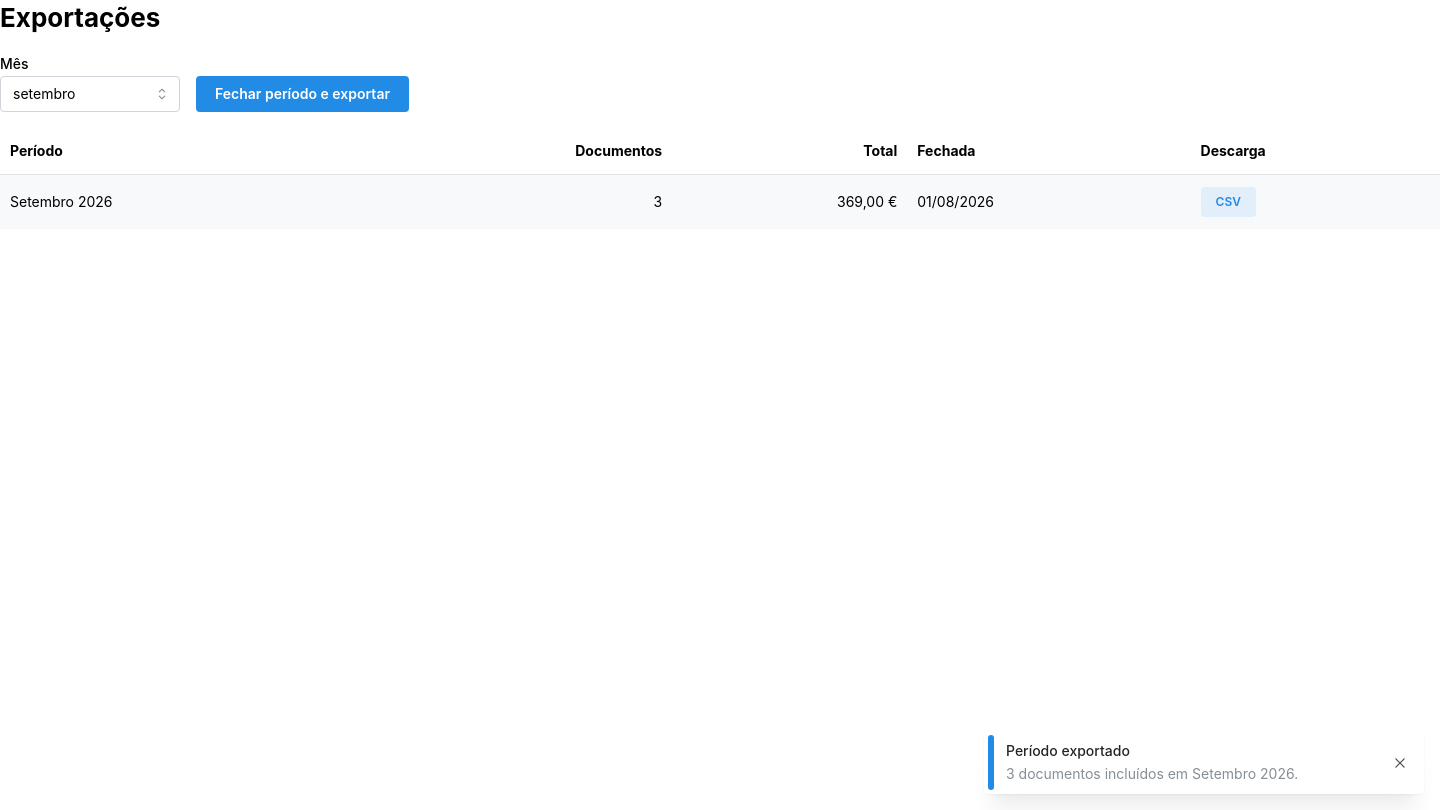
Test case: ExportsPage › um mês já fechado avisa e não duplica a linha
This screenshot has width=1440, height=810.
Step 1. Click the button "Fechar período e exportar" → [302, 94], box [196,76,409,112]
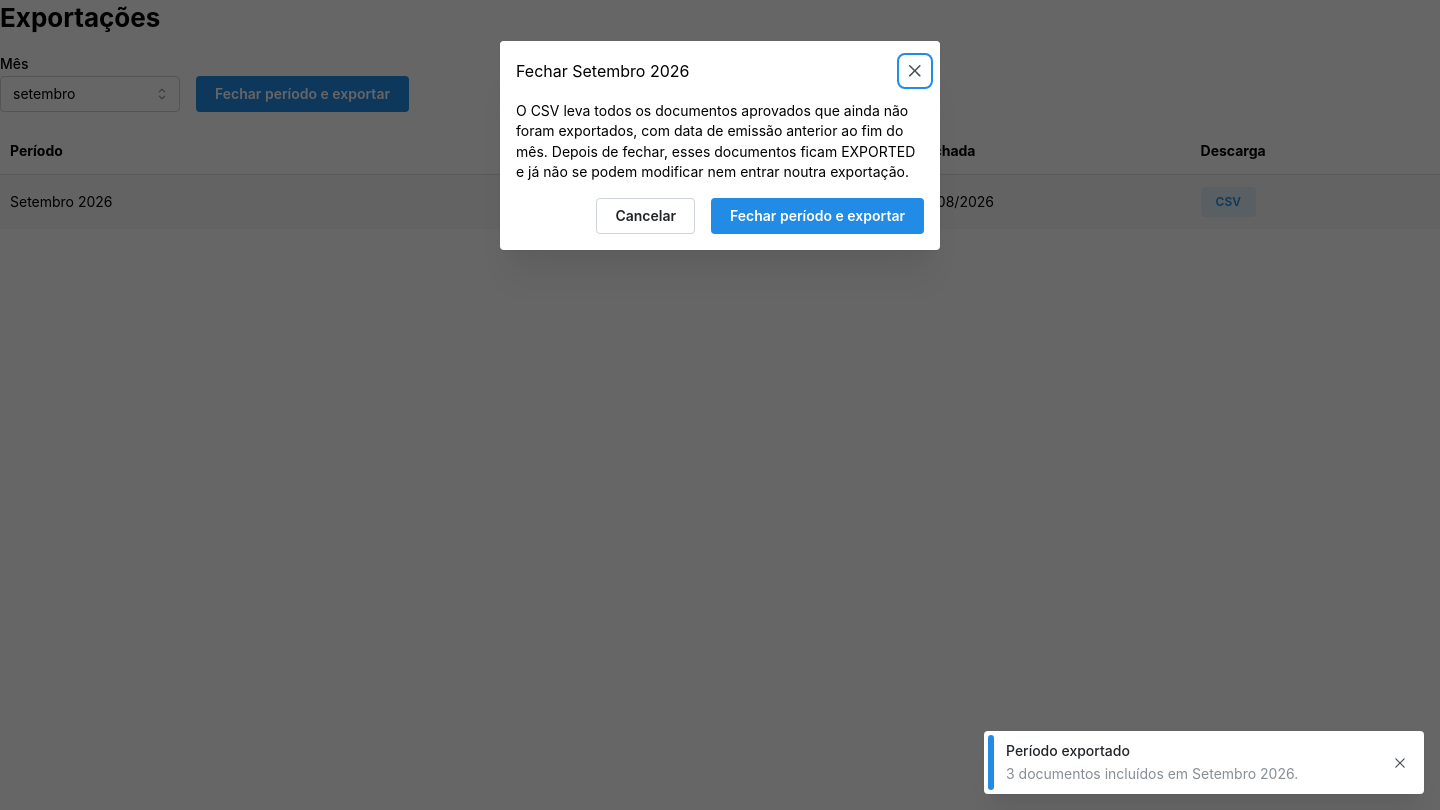
Step 2. Click the button "Fechar período e exportar" → [818, 216], box [711,198,924,234]
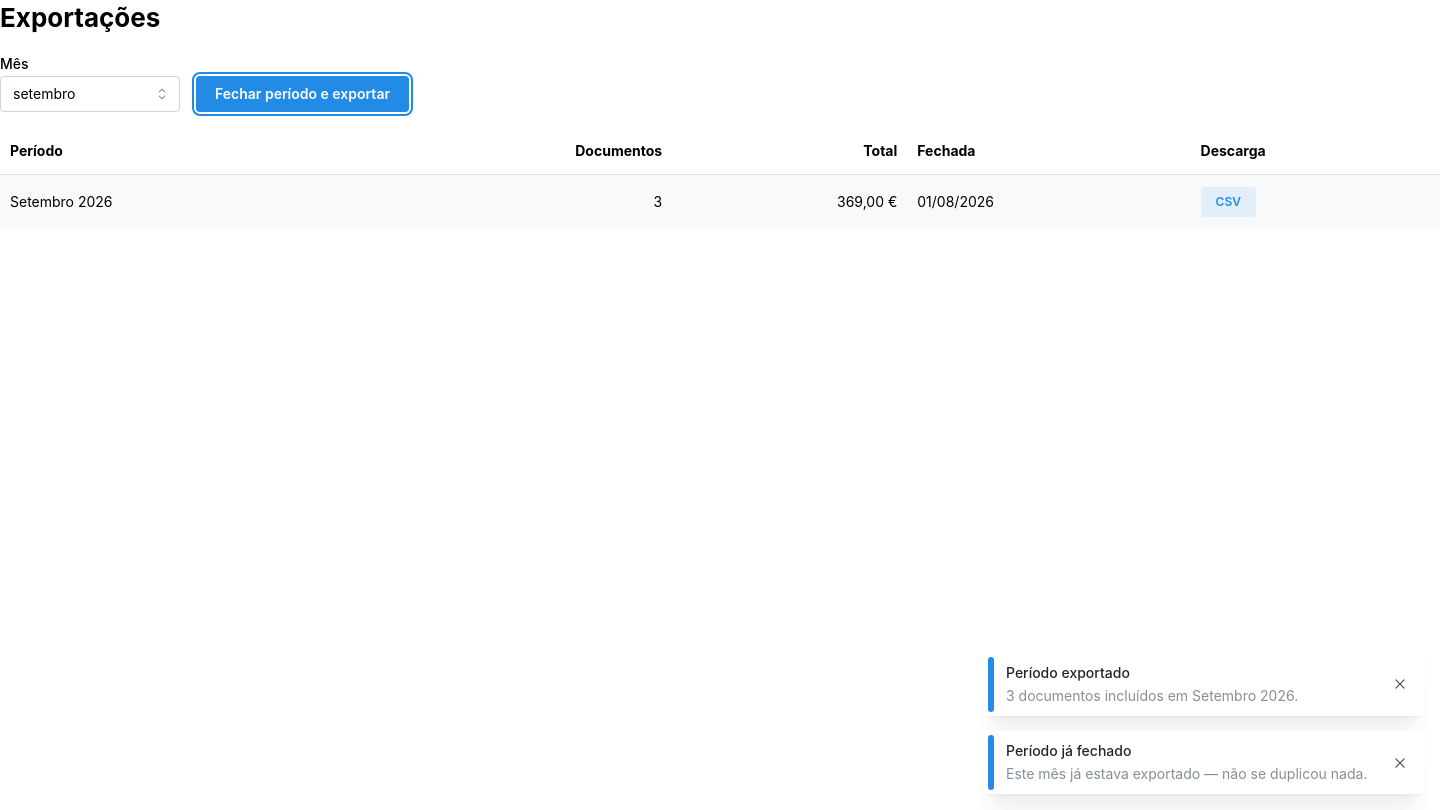
Now the text "Período já fechado" is shown, box [1006,742,1131,759]
Now the text "Este mês já estava exportado — não se duplicou nada." is shown, box [1006,764,1376,784]
